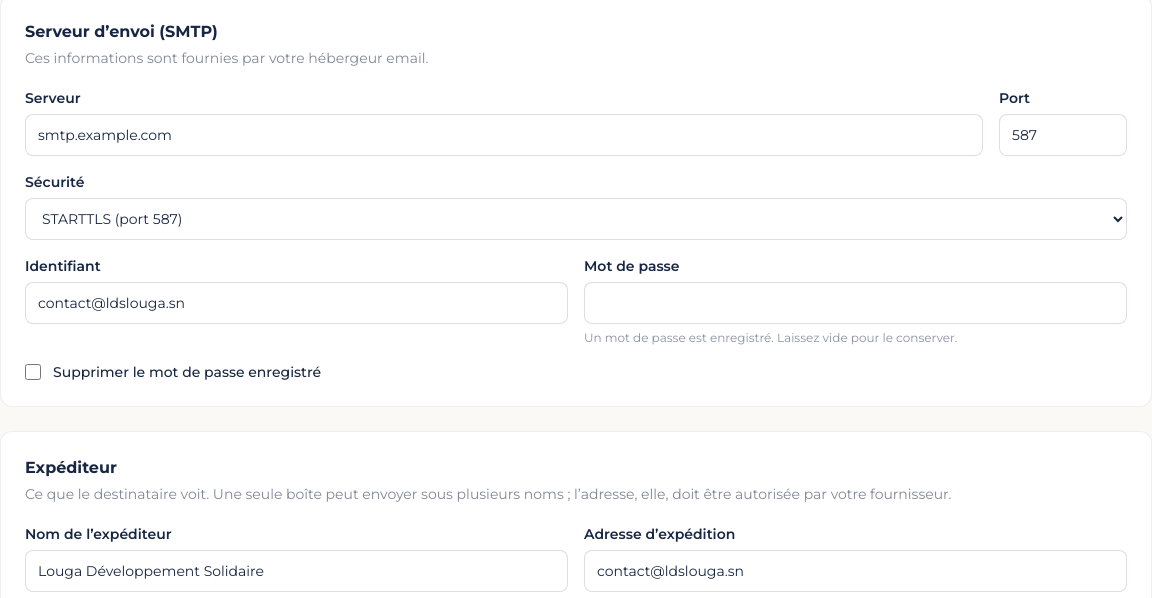
Test case: Email settings screen › refuses to test a configuration that has not been saved
This screenshot has width=1152, height=598.
Type "x" into the field labelled "Serveur".
click(504, 135); type("x")  # box [25,114,983,156]
(page scrolled)
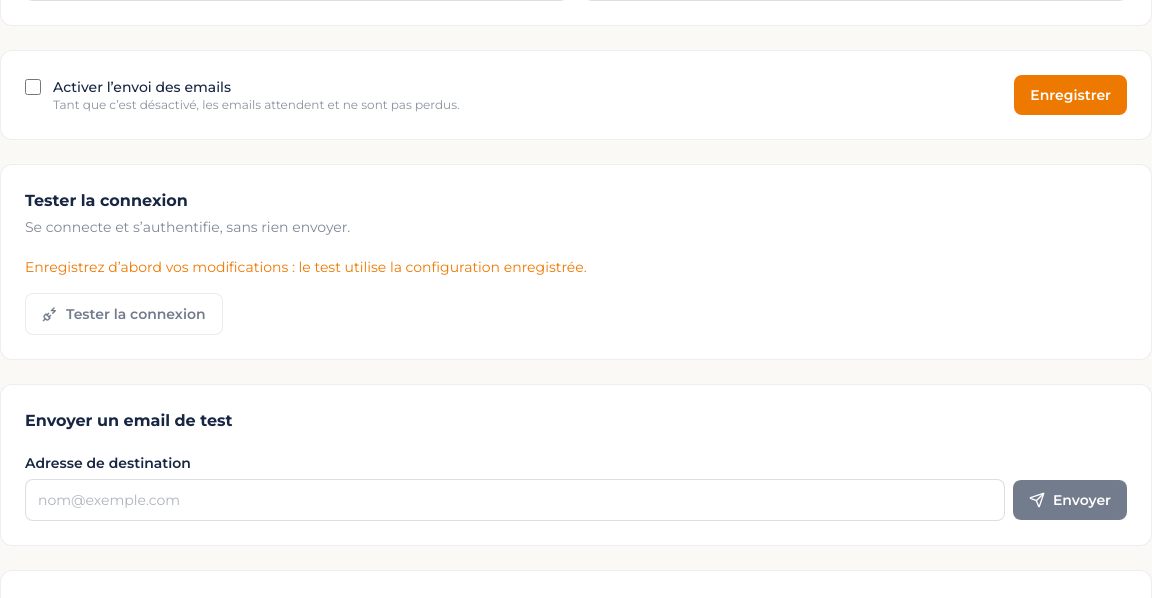
Now the button "Tester la connexion" is disabled, box [25,293,223,335]
Now the text "Enregistrez d’abord" is shown, box [25,258,587,276]
